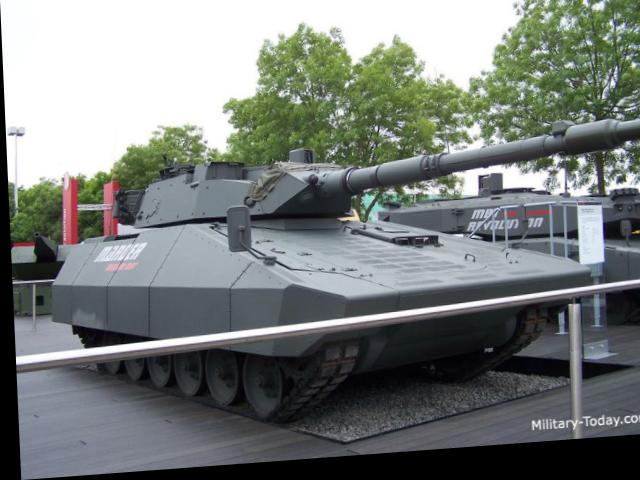tank: (70, 144, 580, 428)
